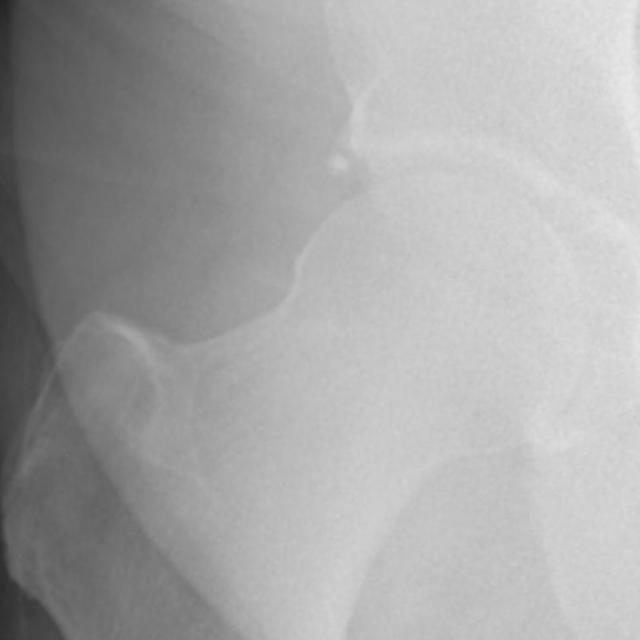Fitted_femural_head: (300, 173, 432, 300)
